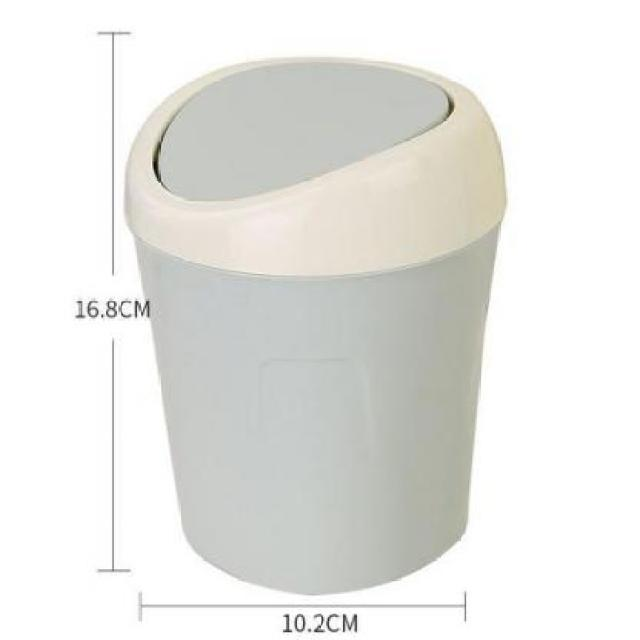dustbin: (120, 49, 514, 598)
